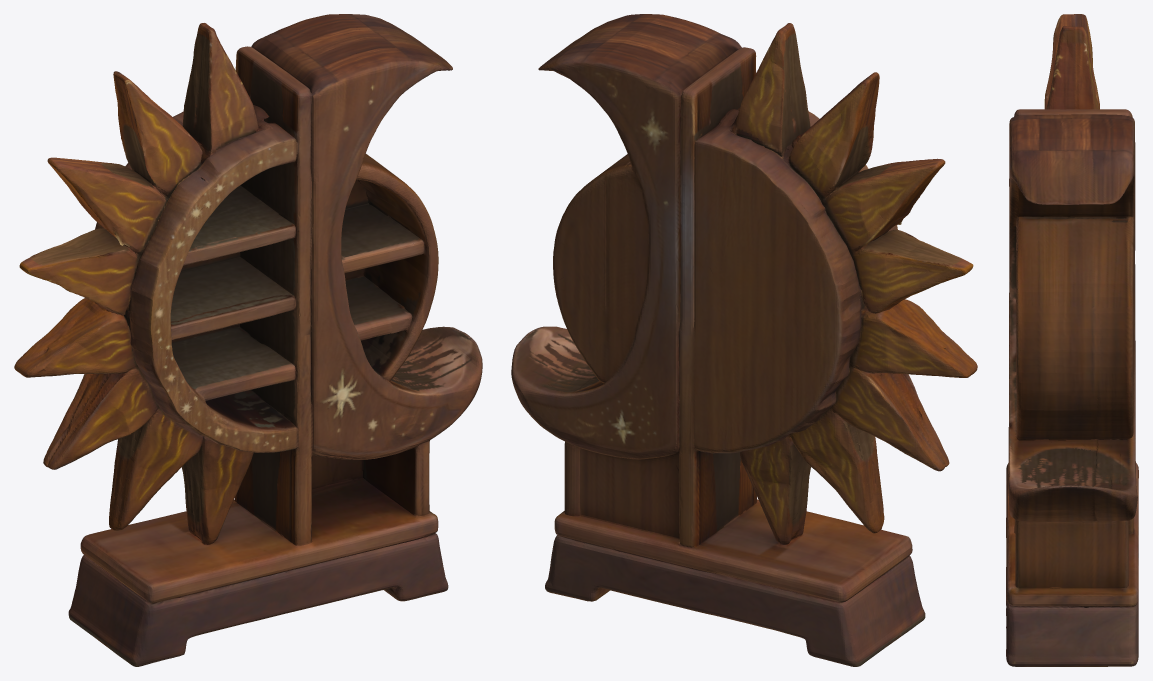
File: Eclipse_Shelf_0613144255_texture.fbx
3 renders of one model, left to right at view 1: azimuth 30°, elevation 25°; view 2: azimuth 150°, elevation 25°; view 3: azimuth 270°, elevation 25°, orthographic. The views are drawn at different scales.
Visible parts, largest first — view 1: temp; view 2: temp; view 3: temp.
Boxes of the visible parts, x1=… form: temp: x1=14, y1=14, x2=482, y2=666; temp: x1=511, y1=14, x2=977, y2=666; temp: x1=1006, y1=14, x2=1138, y2=666.
Bounding box in the file's own units: 158 × 200 × 43.89.
Materials: 1 (1 with a texture image).
